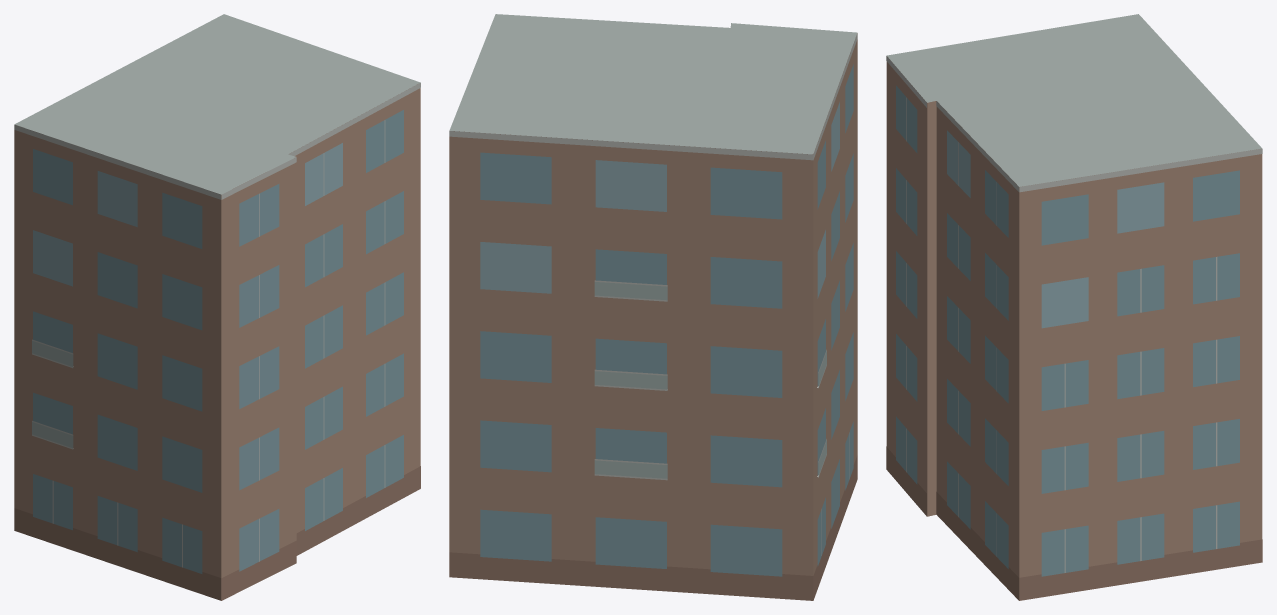
Rendered from survey-upis-32848299.glb.
3 views of the same model, side by side, from view 1: azimuth 30°, elevation 25°; view 2: azimuth 150°, elevation 25°; view 3: azimuth 270°, elevation 25° (orthographic). The views are drawn at different scales.
Parts seen in each view (by area): view 1: survey-upis-32848299.tmp; view 2: survey-upis-32848299.tmp; view 3: survey-upis-32848299.tmp.
Part boxes in pixels (<box>): survey-upis-32848299.tmp: <box>14,14,420,600</box>; survey-upis-32848299.tmp: <box>449,14,857,600</box>; survey-upis-32848299.tmp: <box>886,14,1262,600</box>.
Size of the model in its own units: 16.68 by 18.6 by 15.32.
